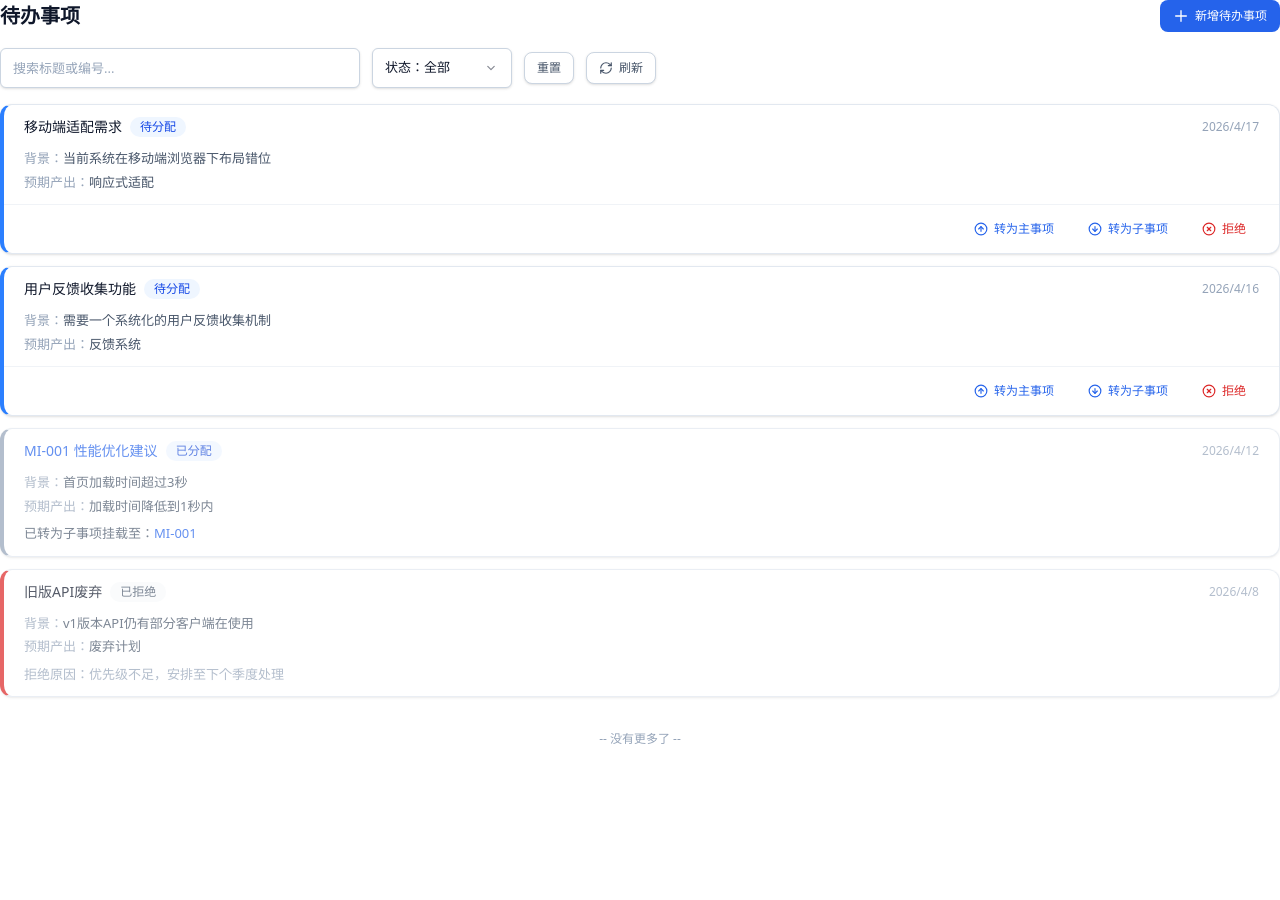
Test case: ItemPoolPage › disables 确认转换 button when assignee not selected in convert-to-main dialog
The width and height of the screenshot is (1280, 900).
Expected: the text "移动端适配需求" is shown, [24, 117, 122, 137]
Click the button with test id "to-main-1" at (1014, 229), box [961, 213, 1067, 245]
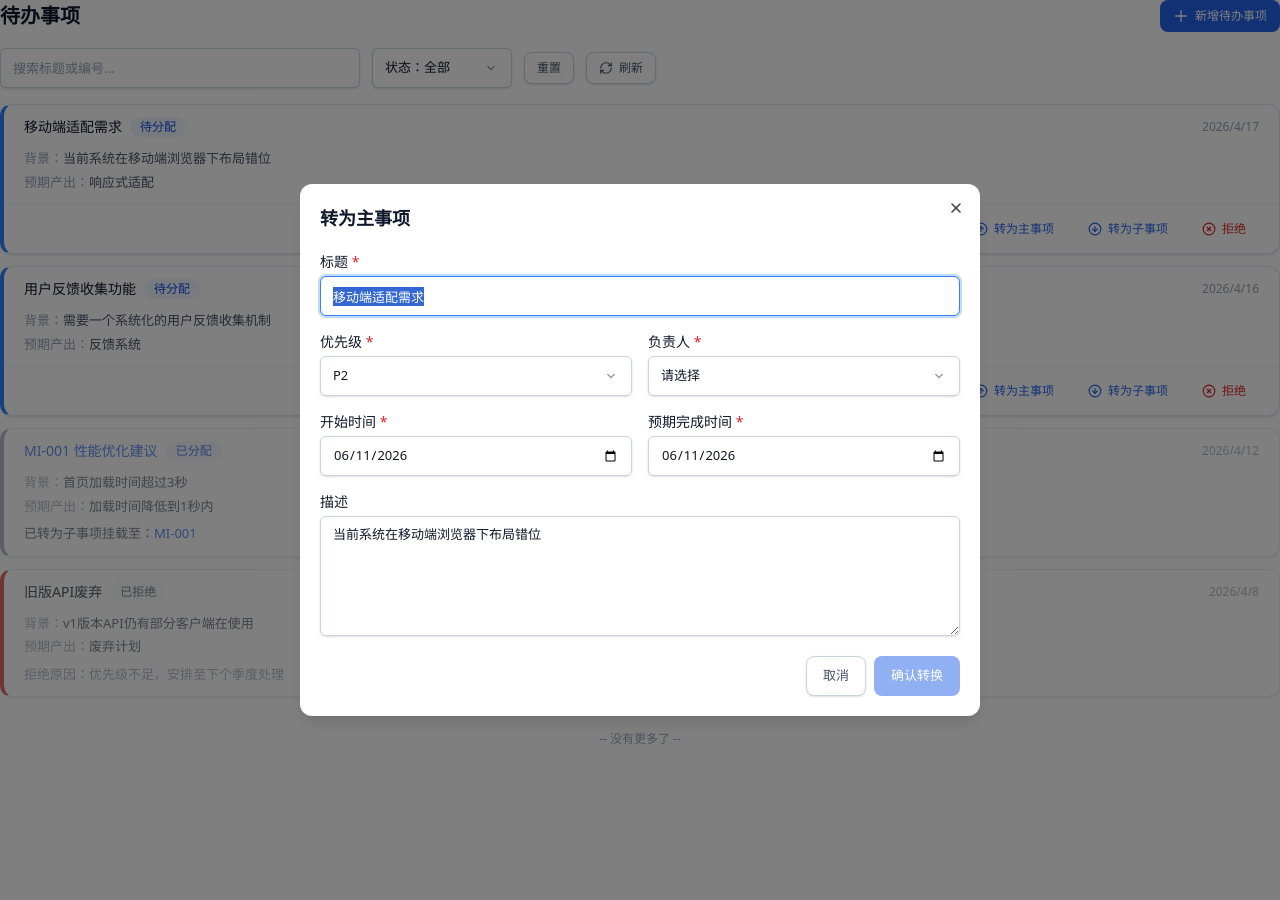
Expected: the button "确认转换" is disabled, [874, 656, 960, 696]
